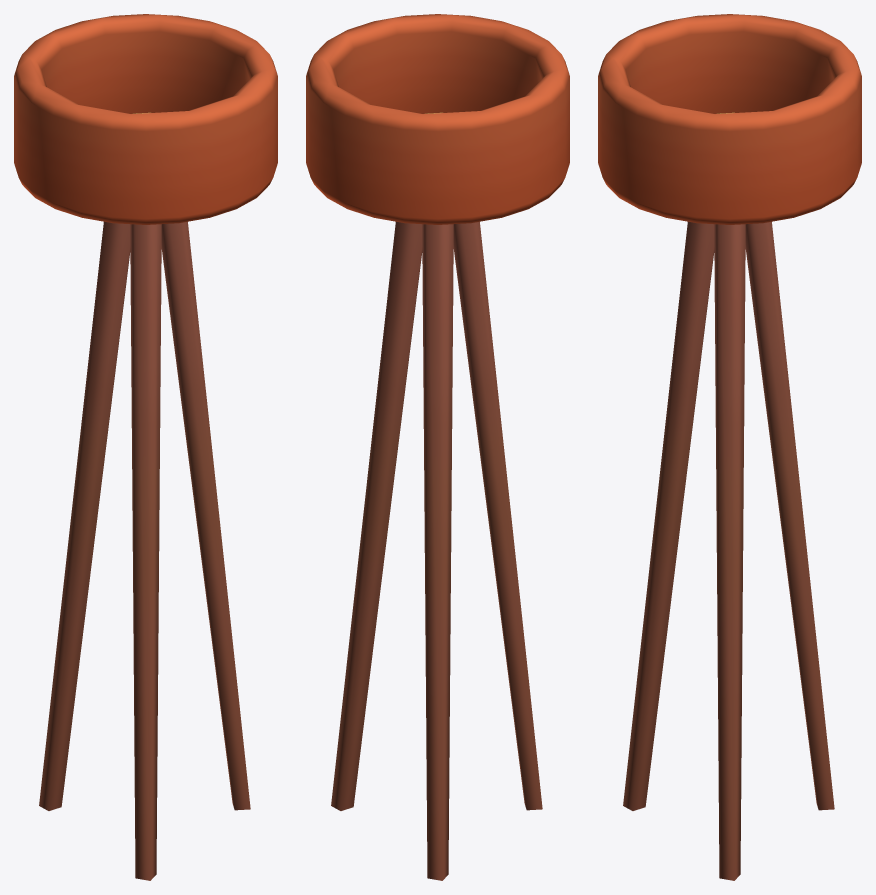
Rendered from Light_05.glb.
The picture shows the model from 3 angles, left to right: view 1: azimuth 30°, elevation 25°; view 2: azimuth 150°, elevation 25°; view 3: azimuth 270°, elevation 25°; orthographic projection.
Parts seen in each view (by area): view 1: Light_05; view 2: Light_05; view 3: Light_05.
Part boxes in pixels (x1,y1,x2,y2): Light_05: (14,14,277,880); Light_05: (306,14,569,880); Light_05: (598,14,861,880).
Bounding box in the file's own units: 0.4376 × 1.4 × 0.4376.
1 material, 1 textured.
